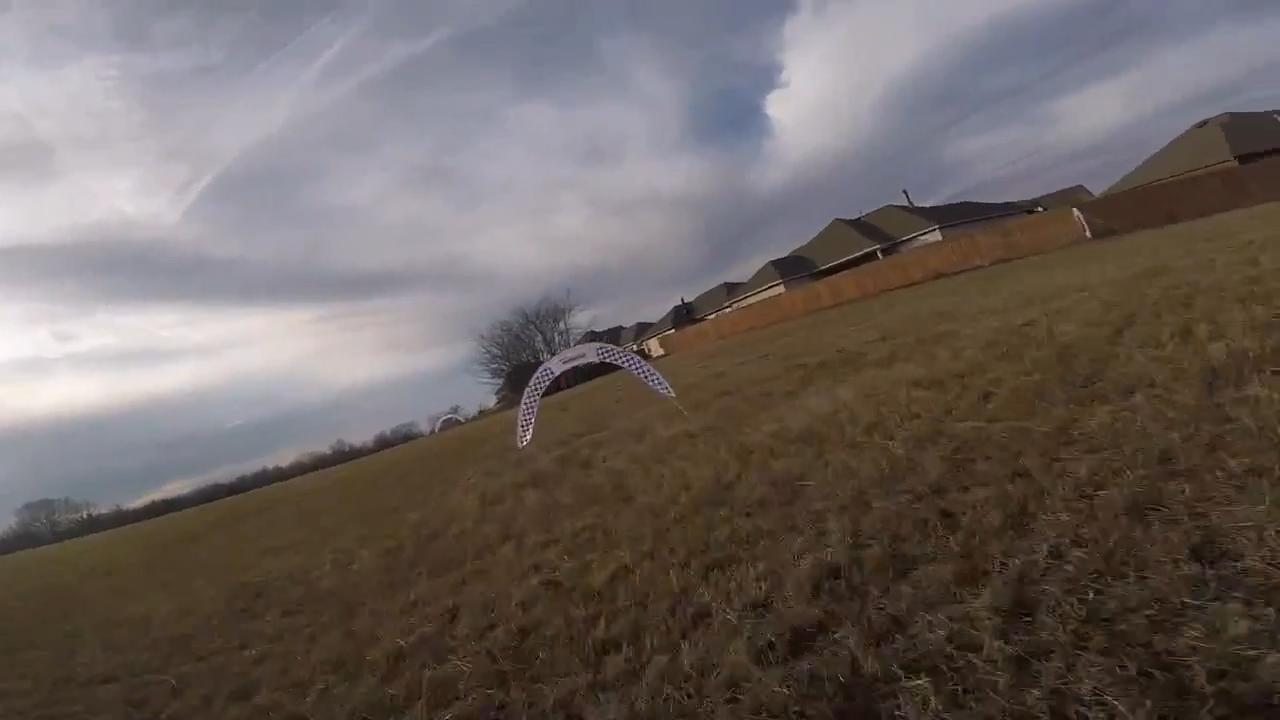gate: (516, 341, 682, 448)
